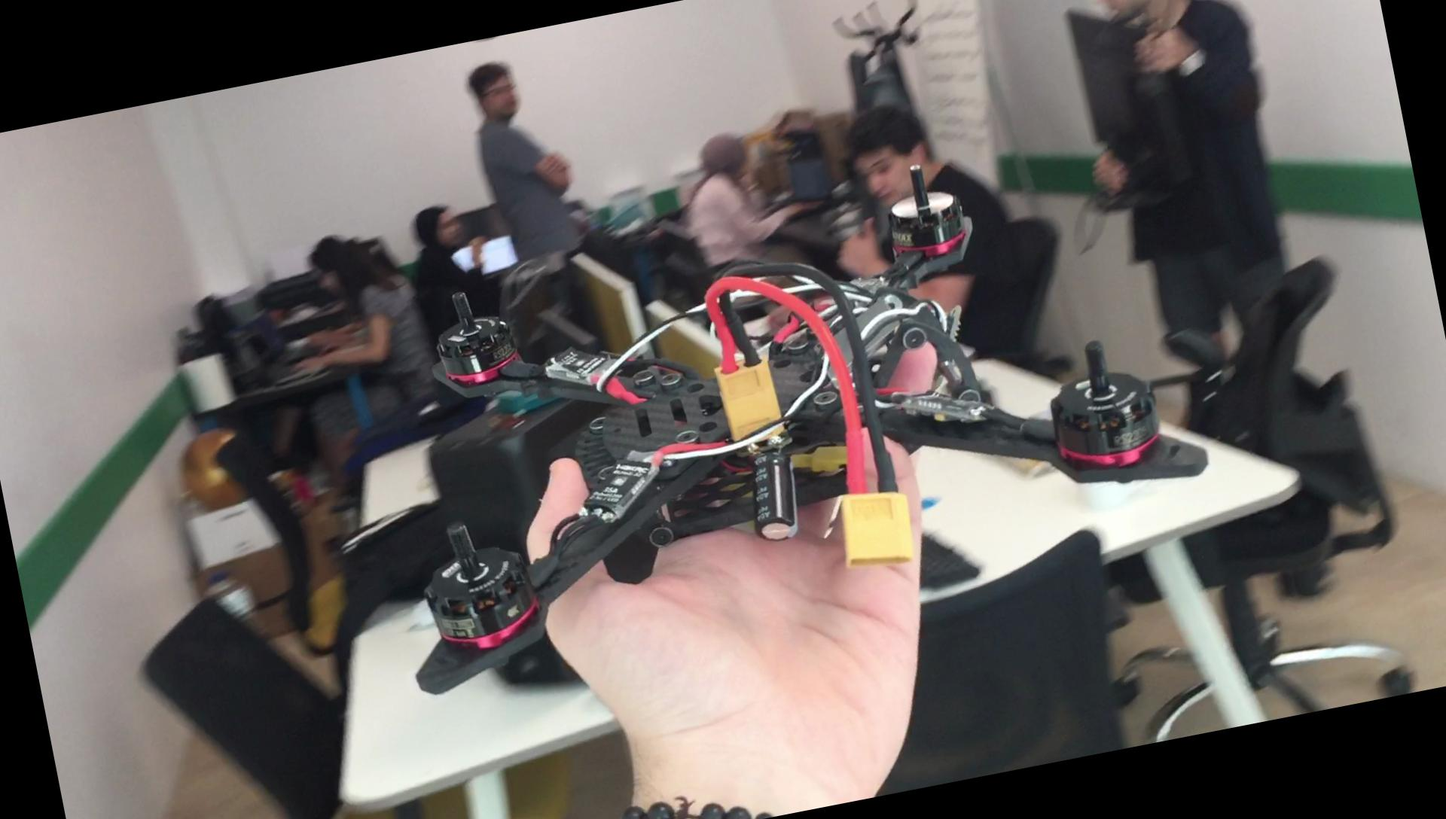drone: (325, 83, 1241, 698)
